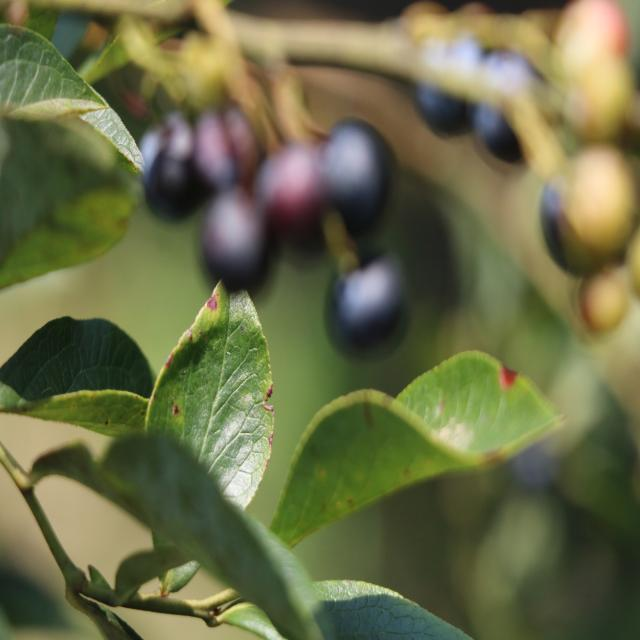blueberry: (250, 136, 336, 274), (307, 112, 401, 238), (321, 243, 412, 367), (462, 49, 546, 178), (197, 187, 283, 309), (406, 28, 489, 143), (134, 110, 209, 230), (534, 174, 608, 280), (189, 100, 259, 198)
